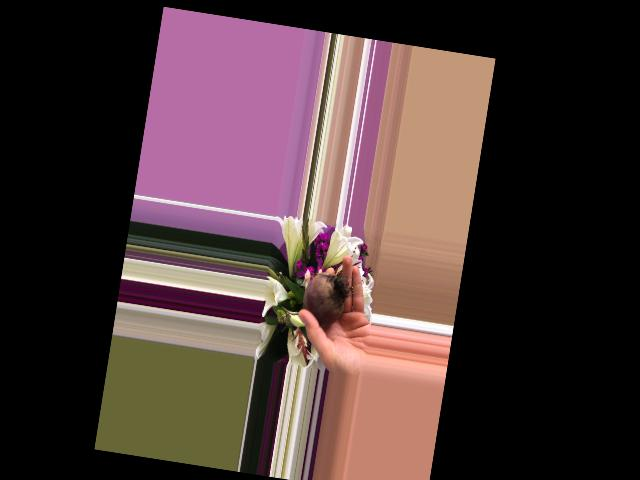beet: (279, 265, 350, 329)
